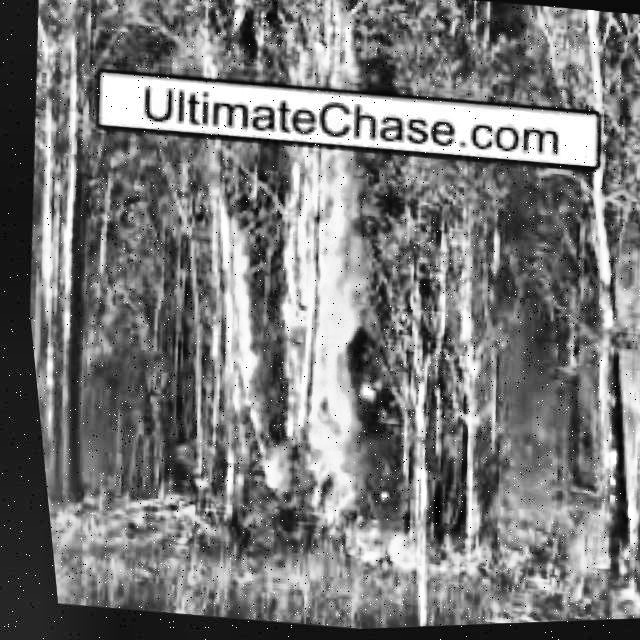Fire: (240, 150, 390, 511), (180, 217, 278, 434), (306, 531, 434, 577), (300, 7, 360, 88)
